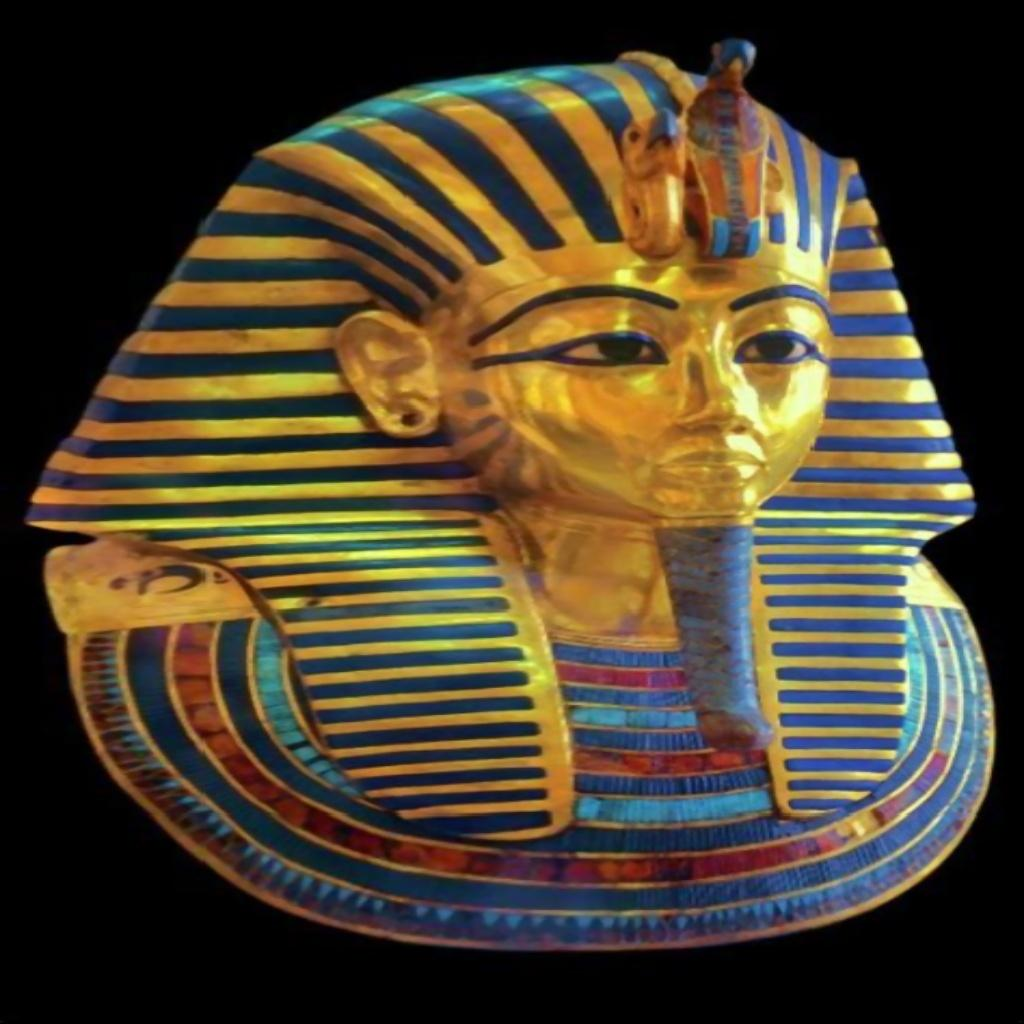Mask of Tutankhamun: (22, 37, 996, 954)
